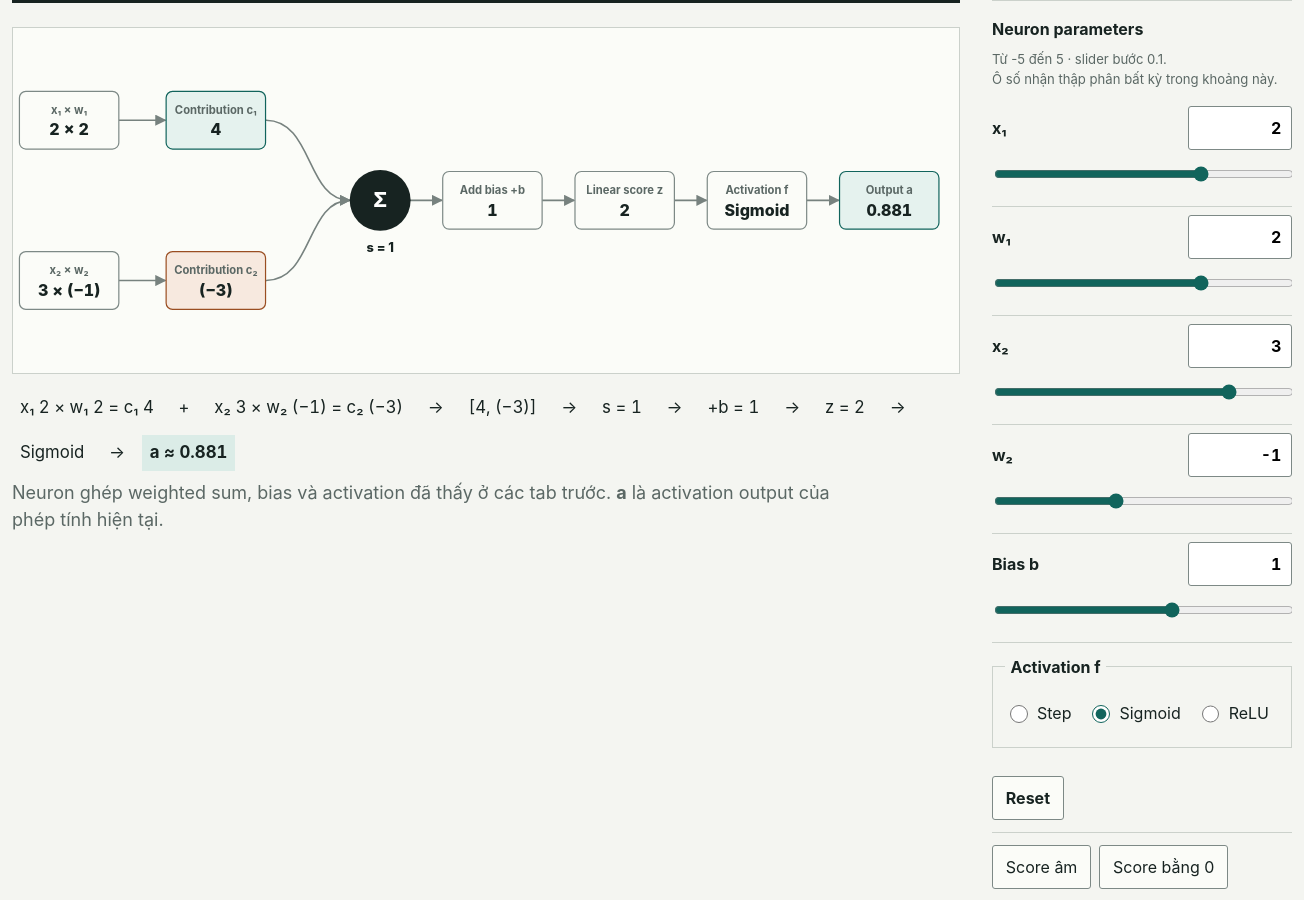
Artificial Neuron › updates all downstream values and preserves z when activation changes
This screenshot has width=1304, height=900.
Expected: the text "a ≈ 0.881" is shown, [142,435,235,471]
Replace the text in the field labelled "x₁" with "3": (1240, 128) [1188,106,1292,150]
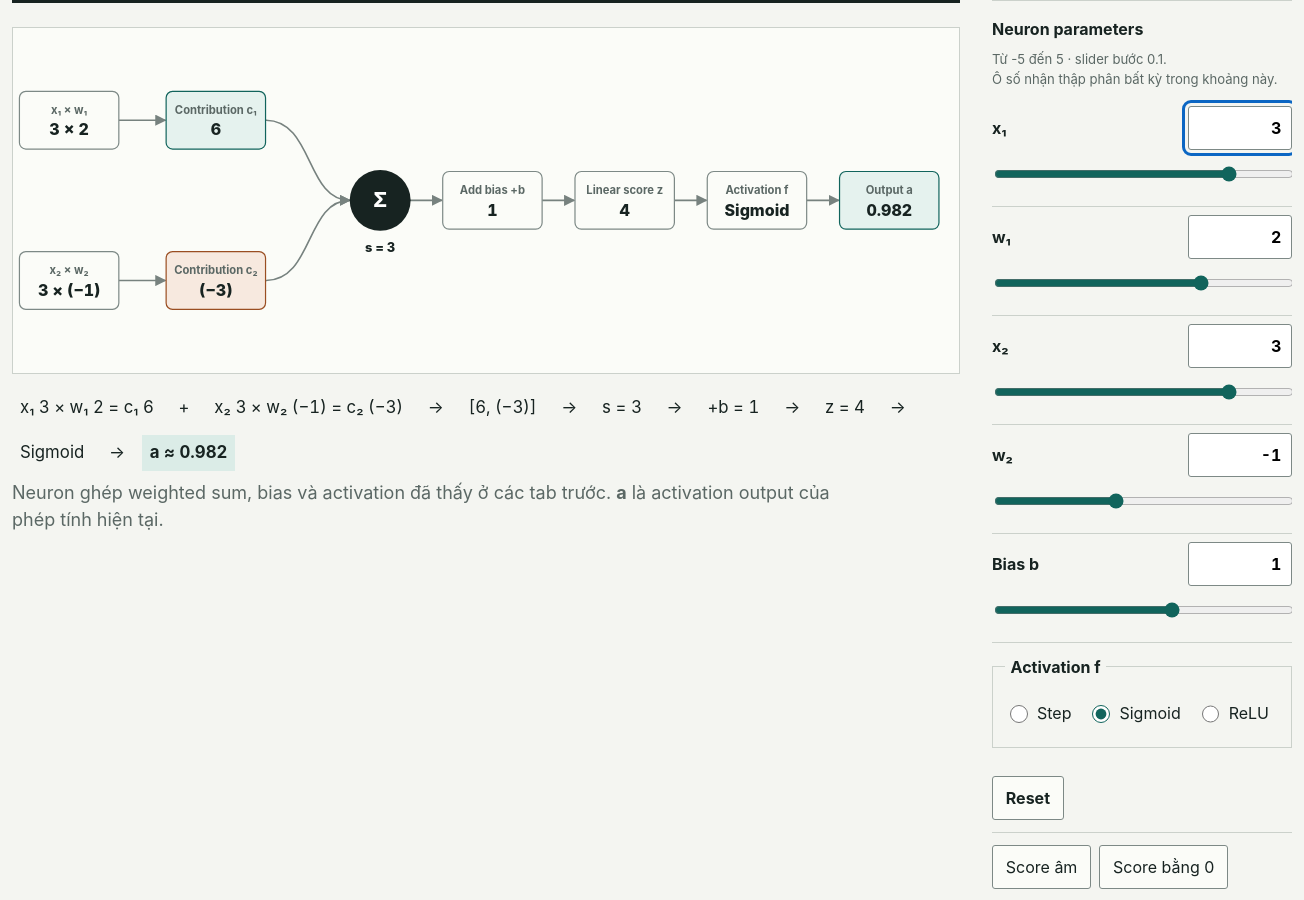
Expected: the text "z = 4" is shown, [825,397,865,417]
Expected: the text "a ≈ 0.982" is shown, [142,435,235,471]
Click the radio button labelled "ReLU": (1210, 714) [1202,705,1219,723]
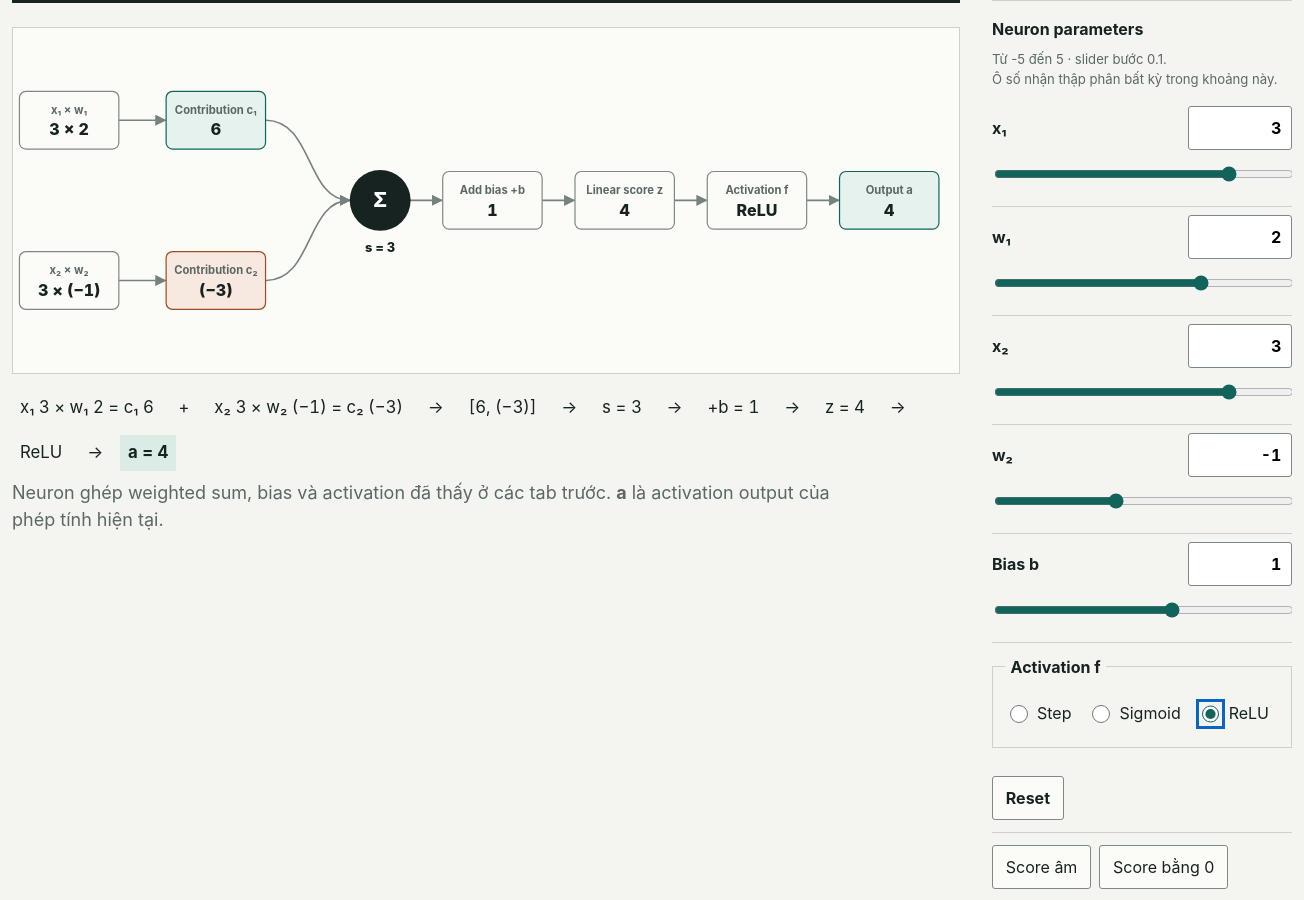
Expected: the text "z = 4" is shown, [825,397,865,417]
Expected: the text "a = 4" is shown, [120,435,176,471]
Click the radio button labelled "Step": (1019, 714) [1010,705,1028,723]
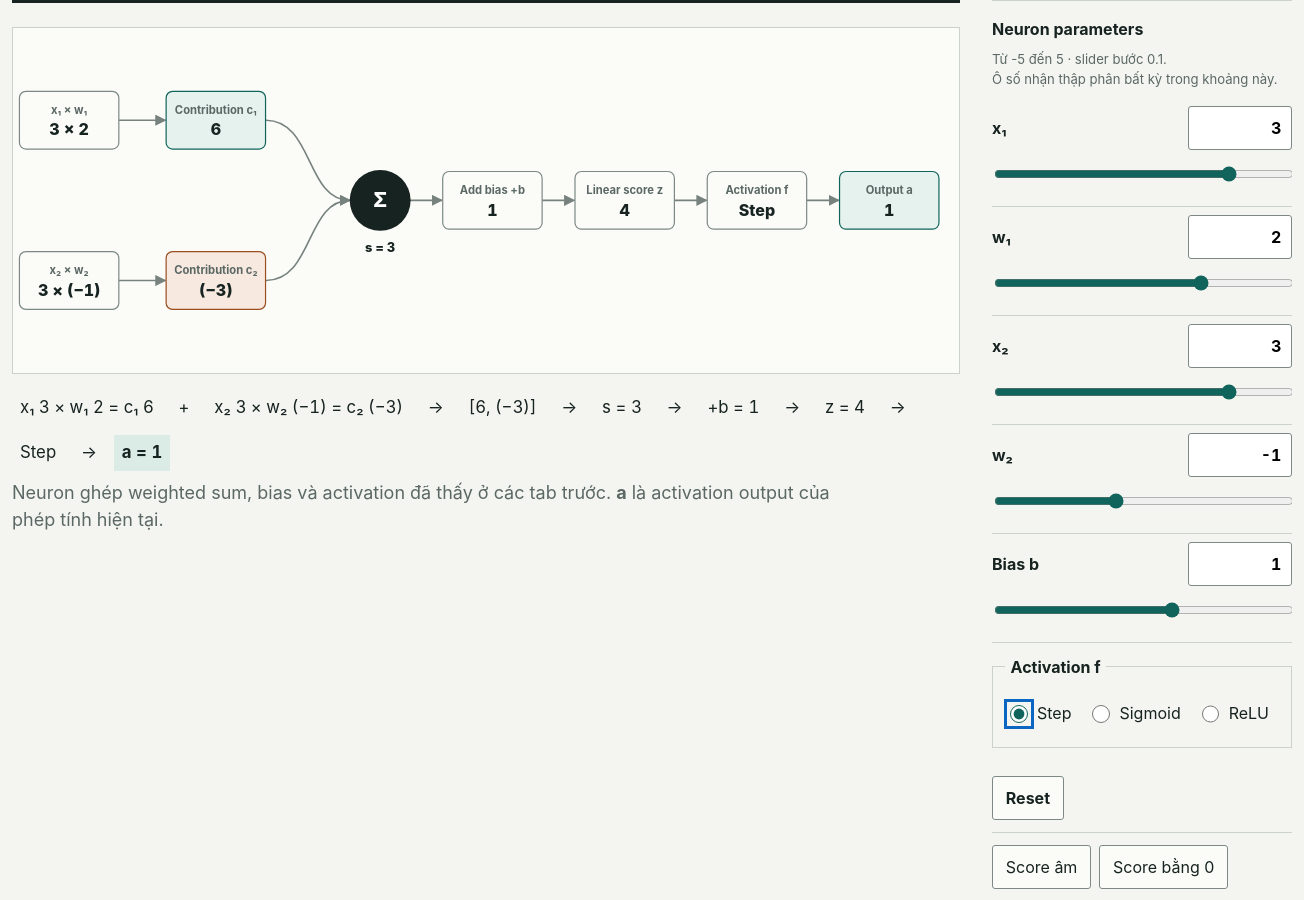
Expected: the text "z = 4" is shown, [825,397,865,417]
Expected: the text "a = 1" is shown, [114,435,170,471]
